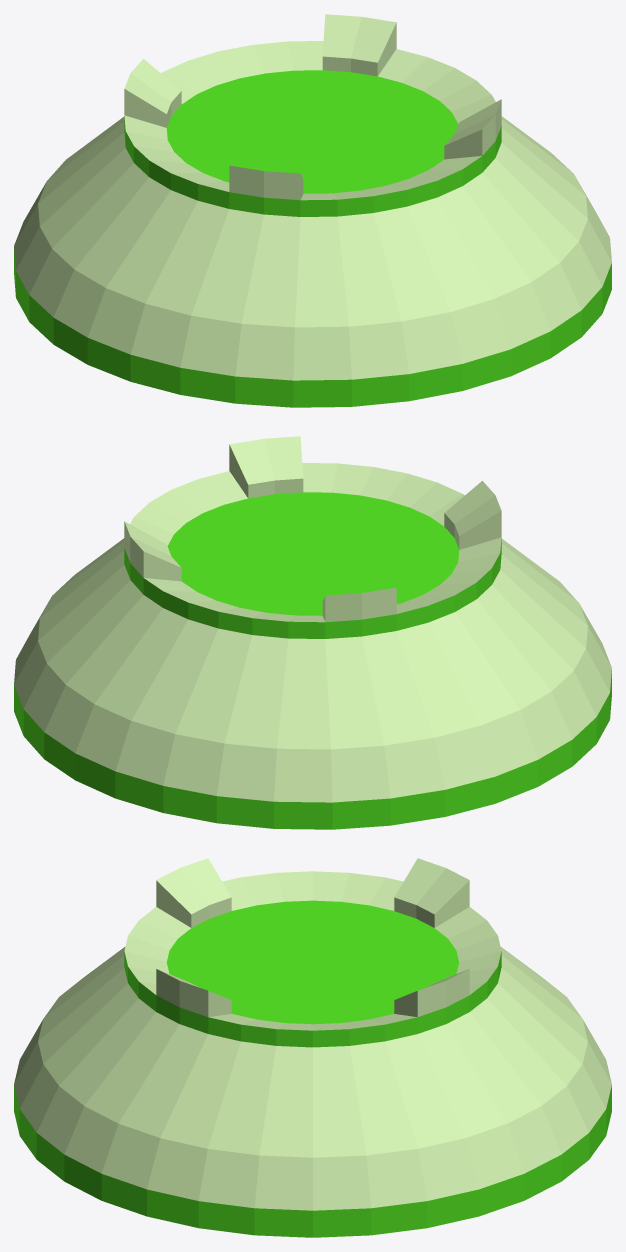
File: HealingStructure.fbx
3 renders of one model, top to bottom at view 1: azimuth 30°, elevation 25°; view 2: azimuth 150°, elevation 25°; view 3: azimuth 270°, elevation 25°, orthographic.
Parts seen in each view (by area): view 1: Cylinder; view 2: Cylinder; view 3: Cylinder.
Boxes of the visible parts, x1,y1,x2,y2 form: Cylinder: (14, 14, 611, 407); Cylinder: (14, 436, 611, 829); Cylinder: (14, 858, 611, 1237).
Size of the model in its own units: 400 by 138 by 400.
